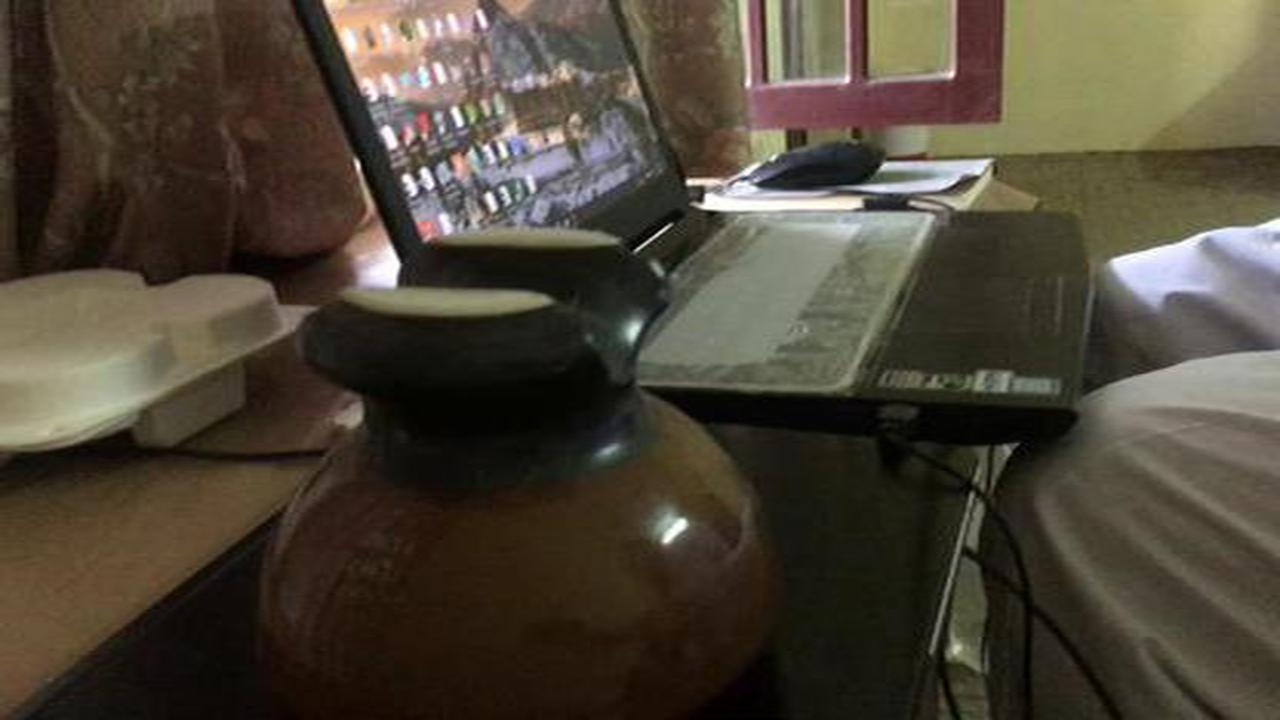insulator_pin: (237, 206, 813, 720)
